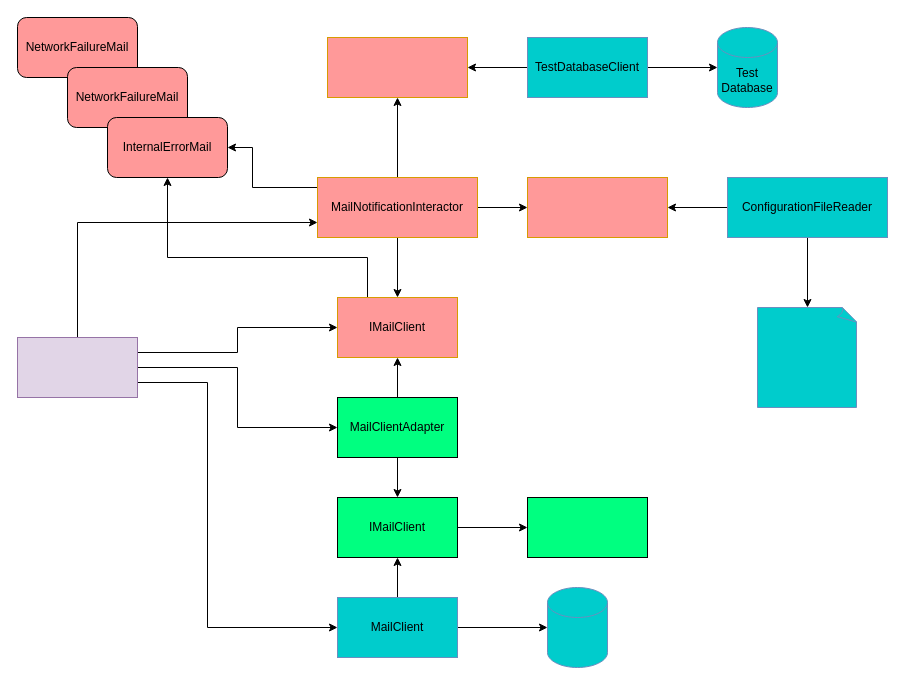
The diagram is 905 pixels wide and 685 high, and some of its shapes have lost their labels. The shapes that lost their labels are listed below. From the top down, each one's centre as x and y in pixels, then its label:
At (x=397, y=67): "ITestResultsRepository".
At (x=597, y=207): "IConfigurationRepository".
At (x=77, y=367): "MAIN".
At (x=807, y=357): "Configuration File".
At (x=587, y=527): "HtmlMail".
At (x=577, y=627): "Mail Server".
